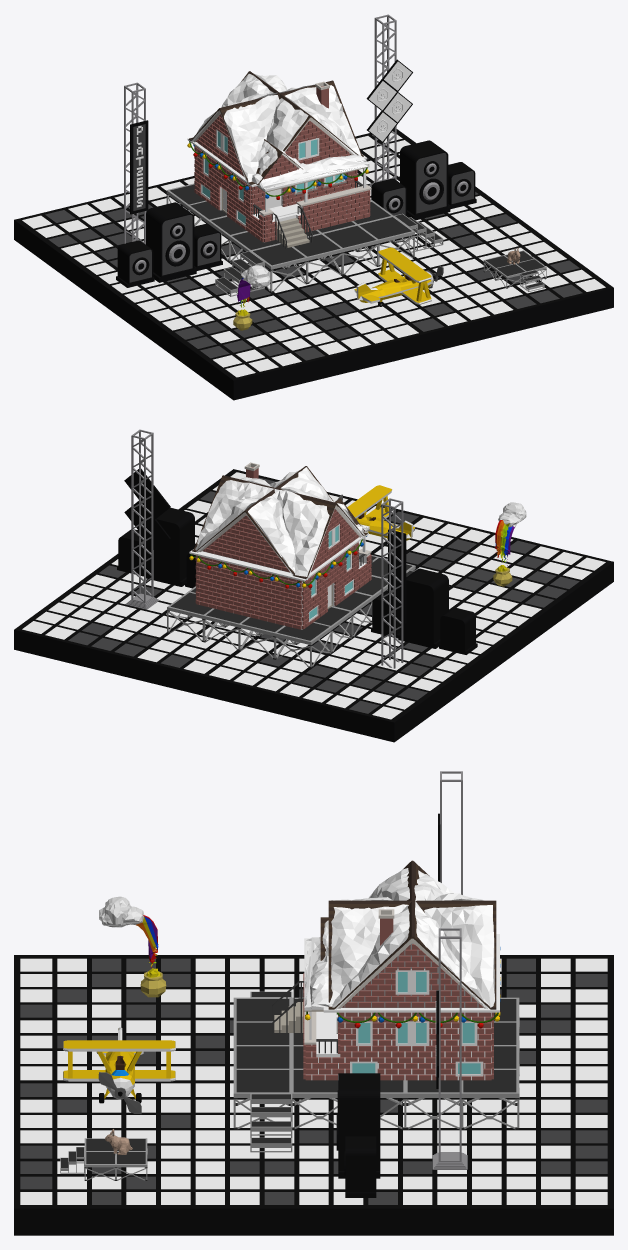
3 renders of one model, top to bottom at view 1: azimuth 30°, elevation 25°; view 2: azimuth 150°, elevation 25°; view 3: azimuth 270°, elevation 25°, orthographic. The views are drawn at different scales.
Visible parts, largest first — view 1: Cube.008, Cube.1419, VEHICLES_AIRPLANE, OBJRANDOM_RAINBOW; view 2: Cube.008, Cube.1419, VEHICLES_AIRPLANE, OBJRANDOM_RAINBOW; view 3: Cube.008, Cube.1419, VEHICLES_AIRPLANE, OBJRANDOM_RAINBOW.
Boxes of the visible parts, x1,y1,x2,y2 form: Cube.008: [14, 14, 613, 400]; Cube.1419: [187, 71, 371, 248]; VEHICLES_AIRPLANE: [354, 247, 443, 306]; OBJRANDOM_RAINBOW: [233, 265, 270, 330]; Cube.008: [14, 429, 613, 742]; Cube.1419: [189, 462, 372, 629]; VEHICLES_AIRPLANE: [337, 485, 415, 544]; OBJRANDOM_RAINBOW: [493, 502, 526, 586]; Cube.008: [14, 771, 613, 1235]; Cube.1419: [272, 860, 500, 1080]; VEHICLES_AIRPLANE: [63, 1027, 175, 1114]; OBJRANDOM_RAINBOW: [99, 896, 166, 997].
Bounding box in the file's own units: 4000 × 1995 × 4000.
Materials: 54 (2 with a texture image).
